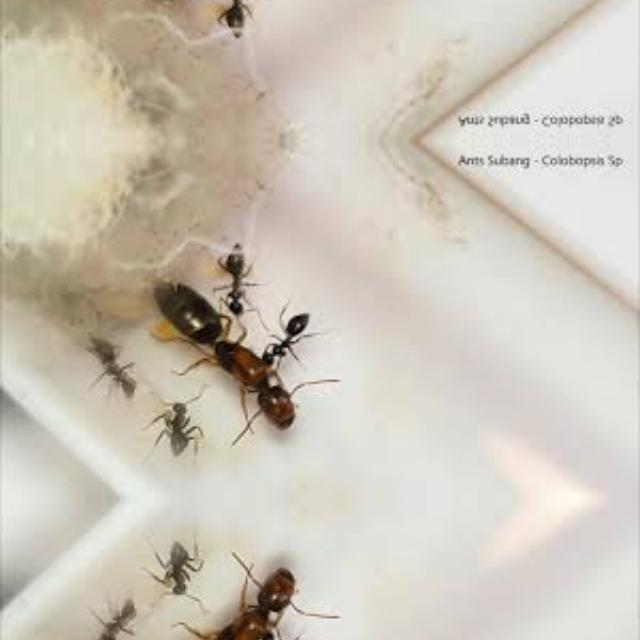Colobopsis: (150, 274, 296, 428), (148, 568, 296, 640), (146, 384, 210, 466), (146, 530, 210, 612), (80, 329, 142, 407), (252, 305, 324, 367), (207, 244, 267, 318), (80, 588, 142, 640), (207, 0, 267, 36)
